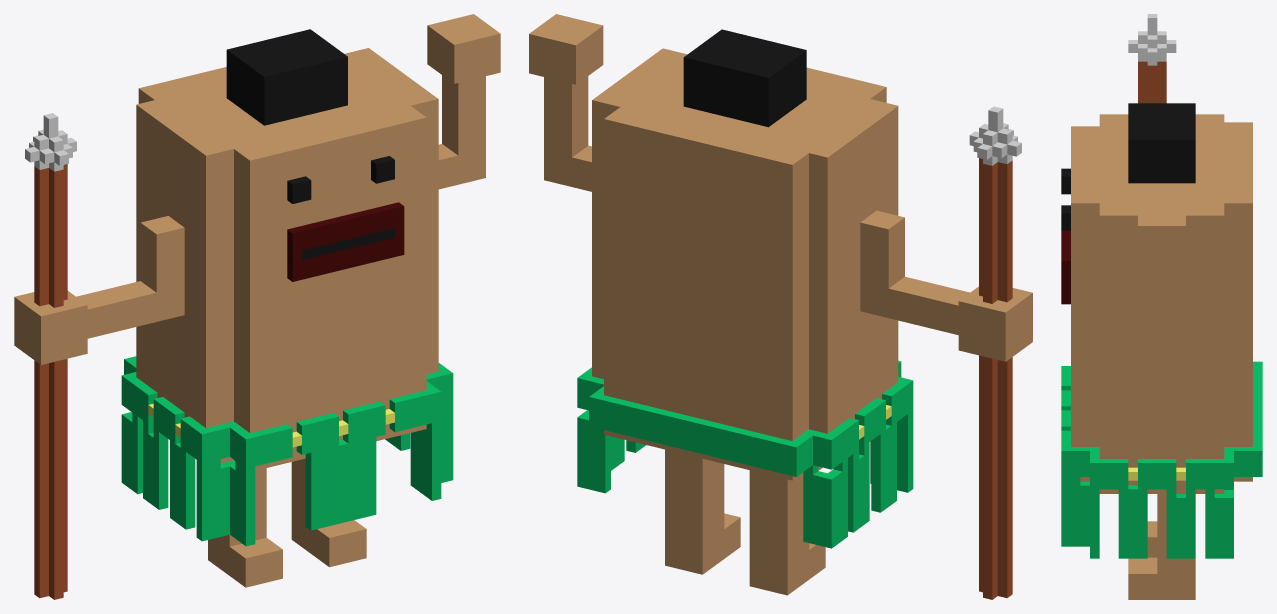
Rendered from native_01.obj.
3 renders of one model, left to right at view 1: azimuth 30°, elevation 25°; view 2: azimuth 150°, elevation 25°; view 3: azimuth 270°, elevation 25°, orthographic. The views are drawn at different scales.
Bounding box in the file's own units: 50 × 52 × 21.
1 material, 1 textured.
